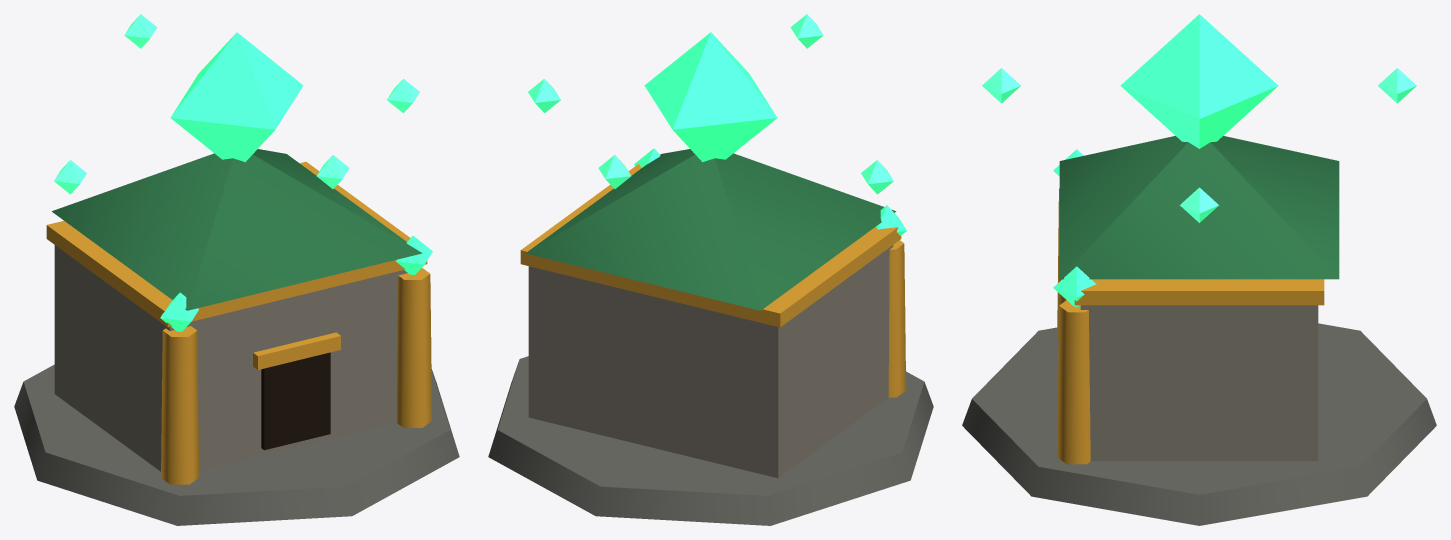
File: level3.glb
The picture shows the model from 3 angles, left to right: view 1: azimuth 30°, elevation 25°; view 2: azimuth 150°, elevation 25°; view 3: azimuth 270°, elevation 25°; orthographic projection. The views are drawn at different scales.
Bounding box in the file's own units: 2.69 × 2.57 × 2.69.
